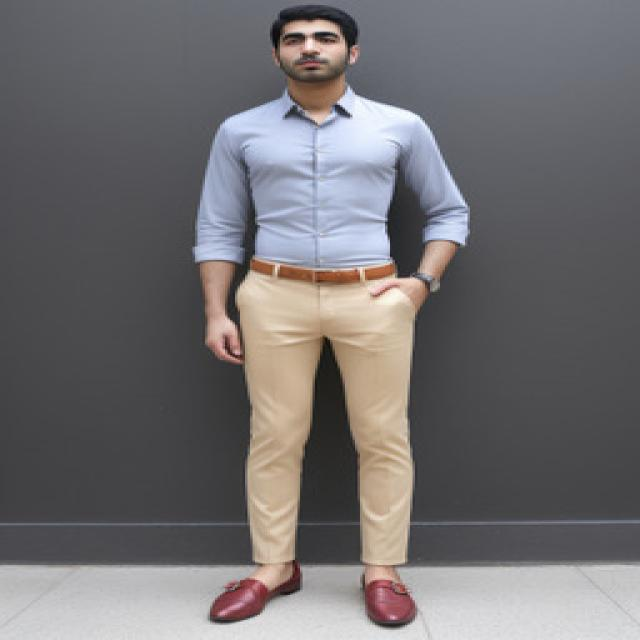Ai human 2: (145, 1, 520, 640)
